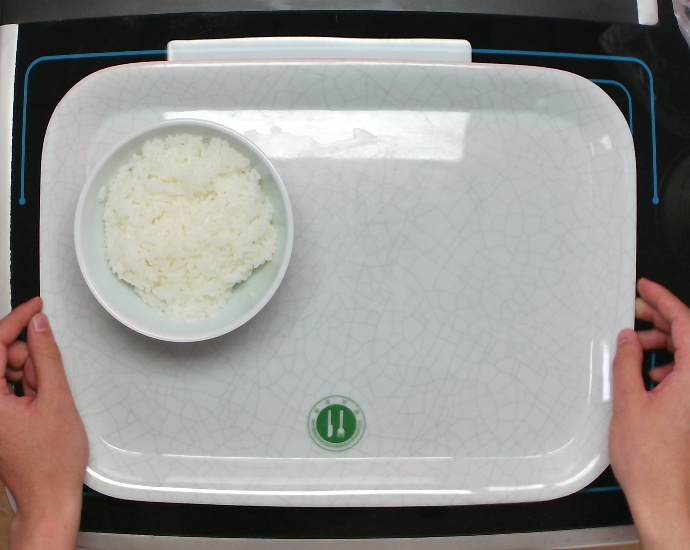JYsf-Fan_Wan: (71, 116, 296, 344)
